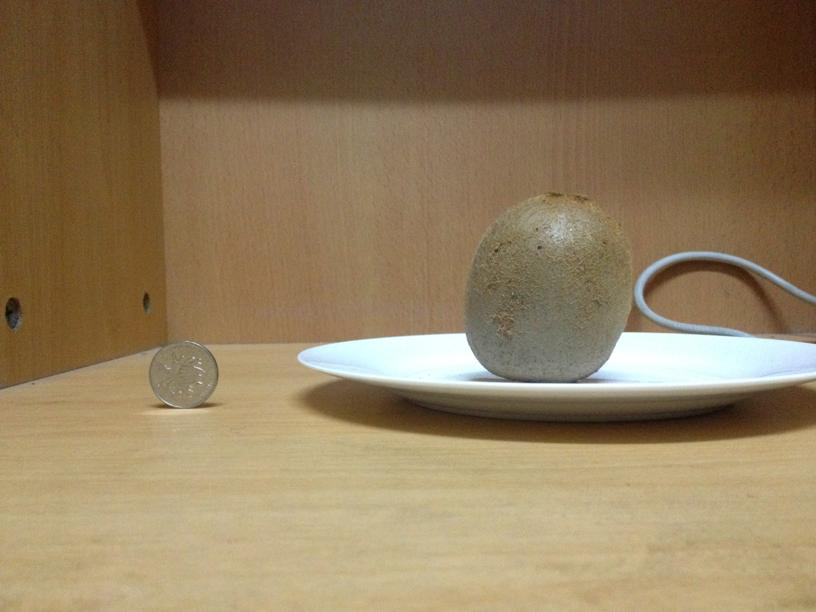coin: (147, 341, 221, 410)
qiwi: (460, 184, 630, 379)
